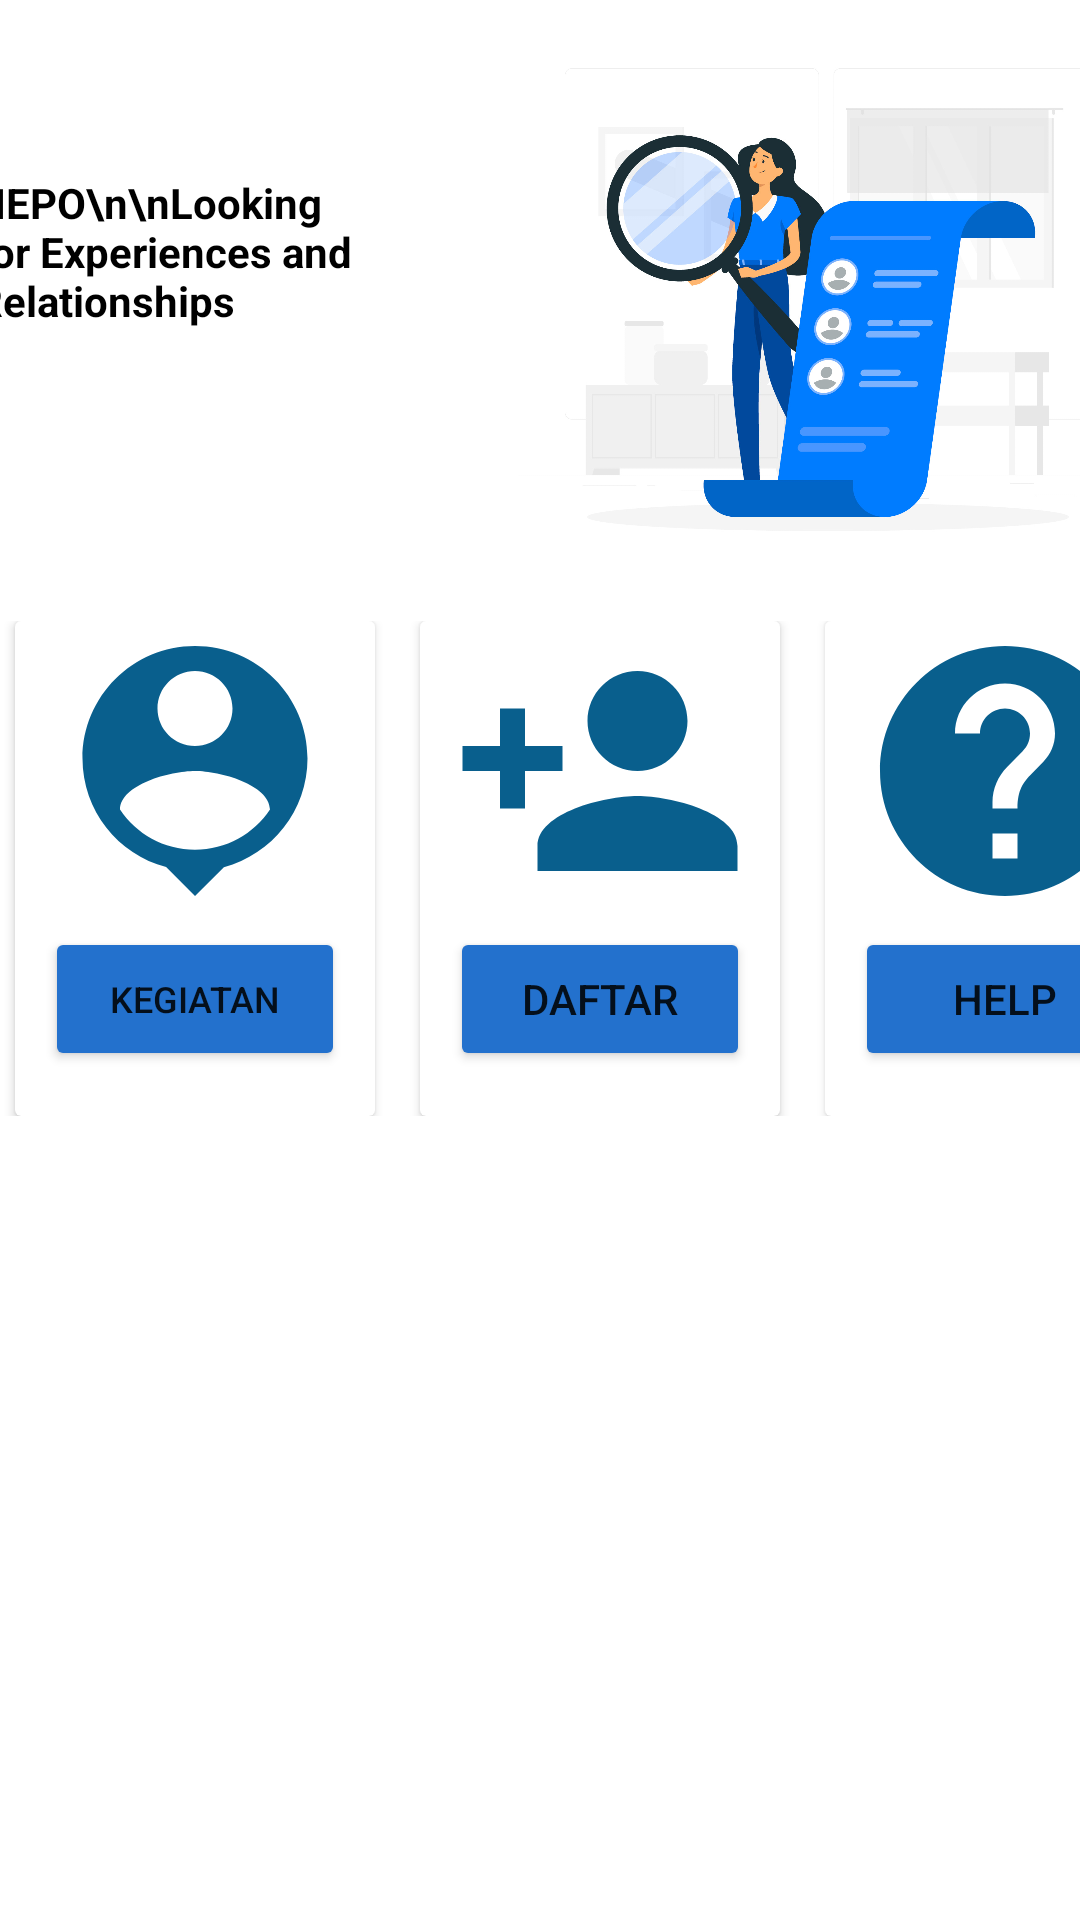

Icon bounding boxes for this 1080px×1920px phone screenshot, format (x1,y1,x2,y2):
person add: (462,671,738,871)
person pin: (82,646,308,896)
